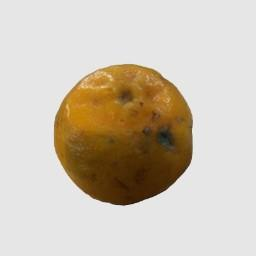Unripe: (53, 64, 194, 205)
